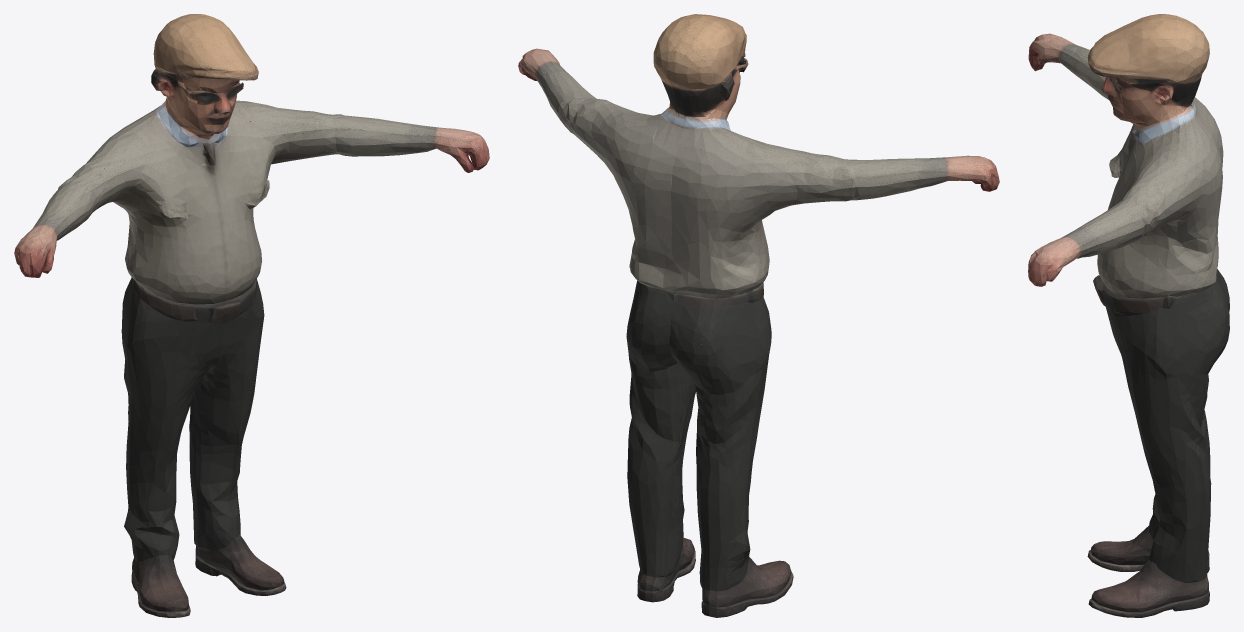
File: Ancleto3.glb
3 renders of one model, left to right at view 1: azimuth 30°, elevation 25°; view 2: azimuth 150°, elevation 25°; view 3: azimuth 270°, elevation 25°, orthographic.
Visible parts, largest first — view 1: world; view 2: world; view 3: world.
Part boxes in pixels (x1,y1,x2,y2): world: [14, 14, 489, 617]; world: [518, 14, 999, 617]; world: [1028, 14, 1229, 617].
Bounding box in the file's own units: 0.867 × 1 × 0.3214.
Materials: 1 (1 with a texture image).
